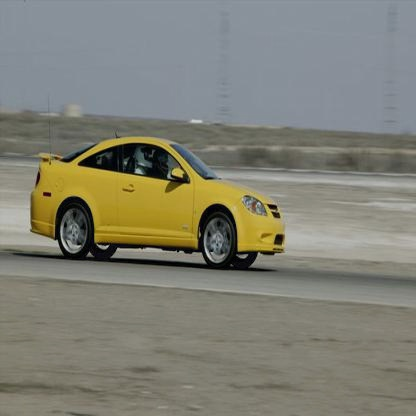Vehicle: (31, 136, 287, 272)
